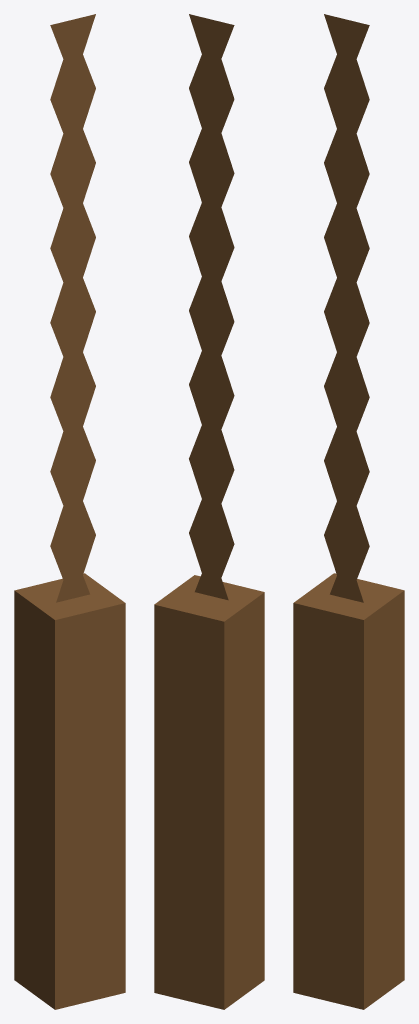
The model's file is cadena2.obj.
3 renders of one model, left to right at view 1: azimuth 30°, elevation 25°; view 2: azimuth 150°, elevation 25°; view 3: azimuth 330°, elevation 25°, orthographic.
Parts seen in each view (by area): view 1: clock:rightweight_clocktexture; view 2: clock:rightweight_clocktexture; view 3: clock:rightweight_clocktexture.
Part boxes in pixels (x1,y1,x2,y2): clock:rightweight_clocktexture: (14, 14, 125, 1009); clock:rightweight_clocktexture: (154, 14, 264, 1009); clock:rightweight_clocktexture: (293, 14, 404, 1009).
Size of the model in its own units: 0.1719 by 2.26 by 0.1719.
1 material, 1 textured.
